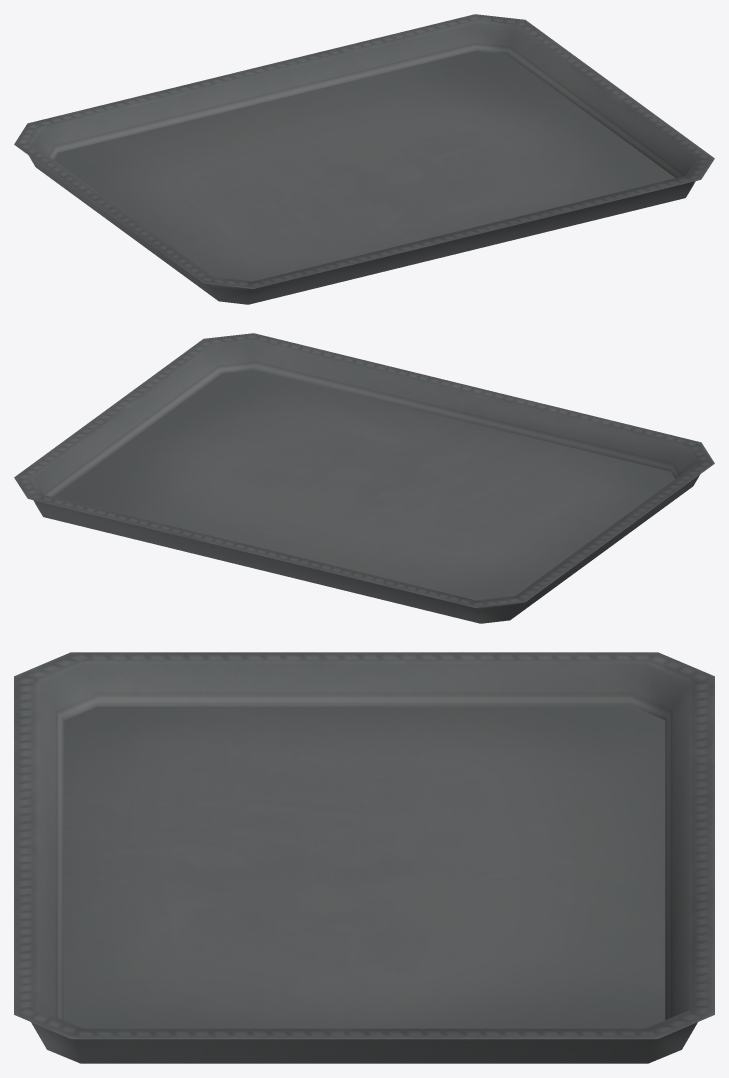
The model's file is SilverTraySq.fbx.
The picture shows the model from 3 angles, top to bottom: view 1: azimuth 30°, elevation 25°; view 2: azimuth 150°, elevation 25°; view 3: azimuth 270°, elevation 25°; orthographic projection. The views are drawn at different scales.
Parts seen in each view (by area): view 1: Empty_Mesh; view 2: Empty_Mesh; view 3: Empty_Mesh.
Boxes of the visible parts, <box> form: Empty_Mesh: <box>14,14,714,304</box>; Empty_Mesh: <box>14,333,714,623</box>; Empty_Mesh: <box>14,652,714,1063</box>.
Size of the model in its own units: 786 by 36.63 by 602.
